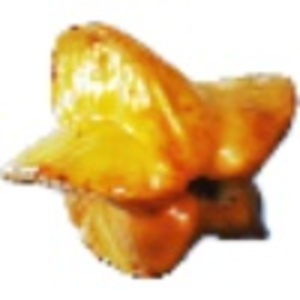carambola: (1, 21, 300, 281)
